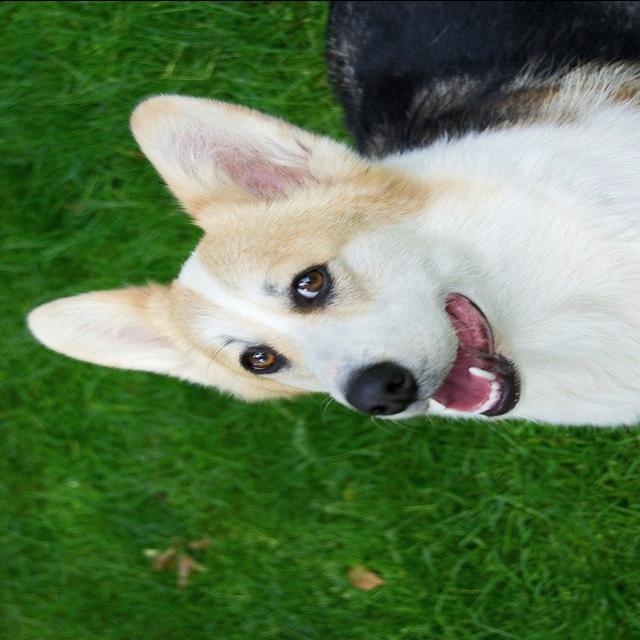corgi: (24, 0, 638, 428)
